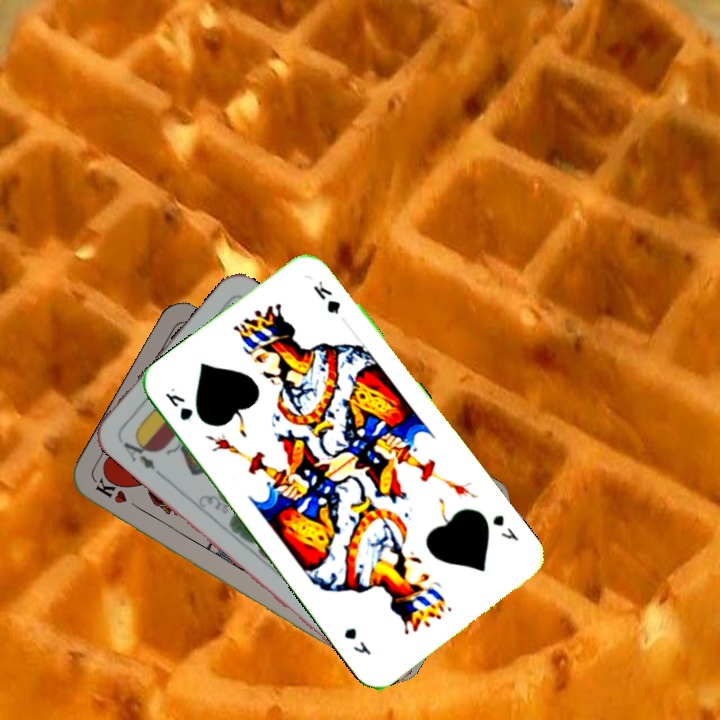EA: (119, 432, 164, 478)
GK: (160, 388, 196, 424), (488, 510, 522, 544)
HK: (91, 475, 146, 515)
